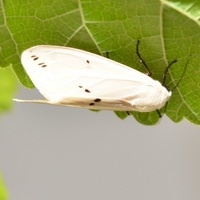insect: (21, 45, 171, 111)
